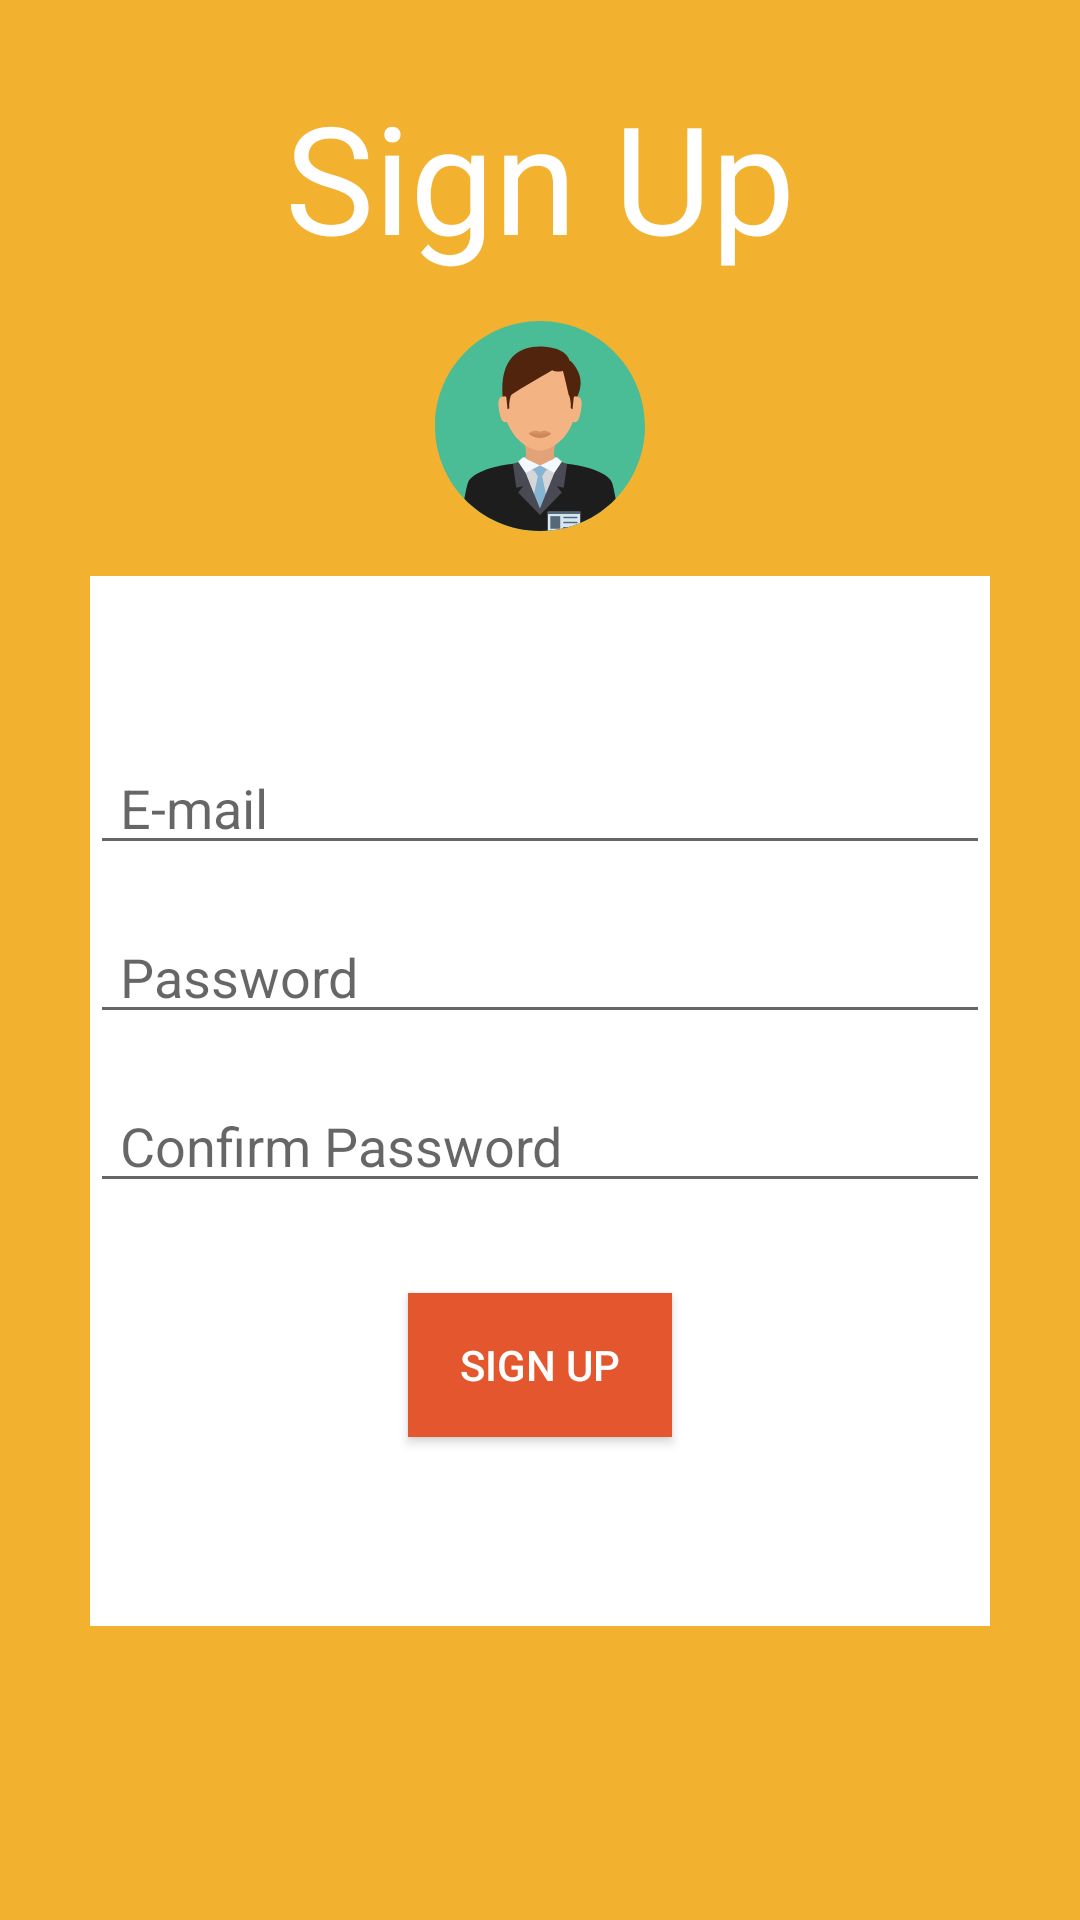

Where to tap for icons on this 1080px x 1920px app screen, as [x,y]:
admin: [540,426]
